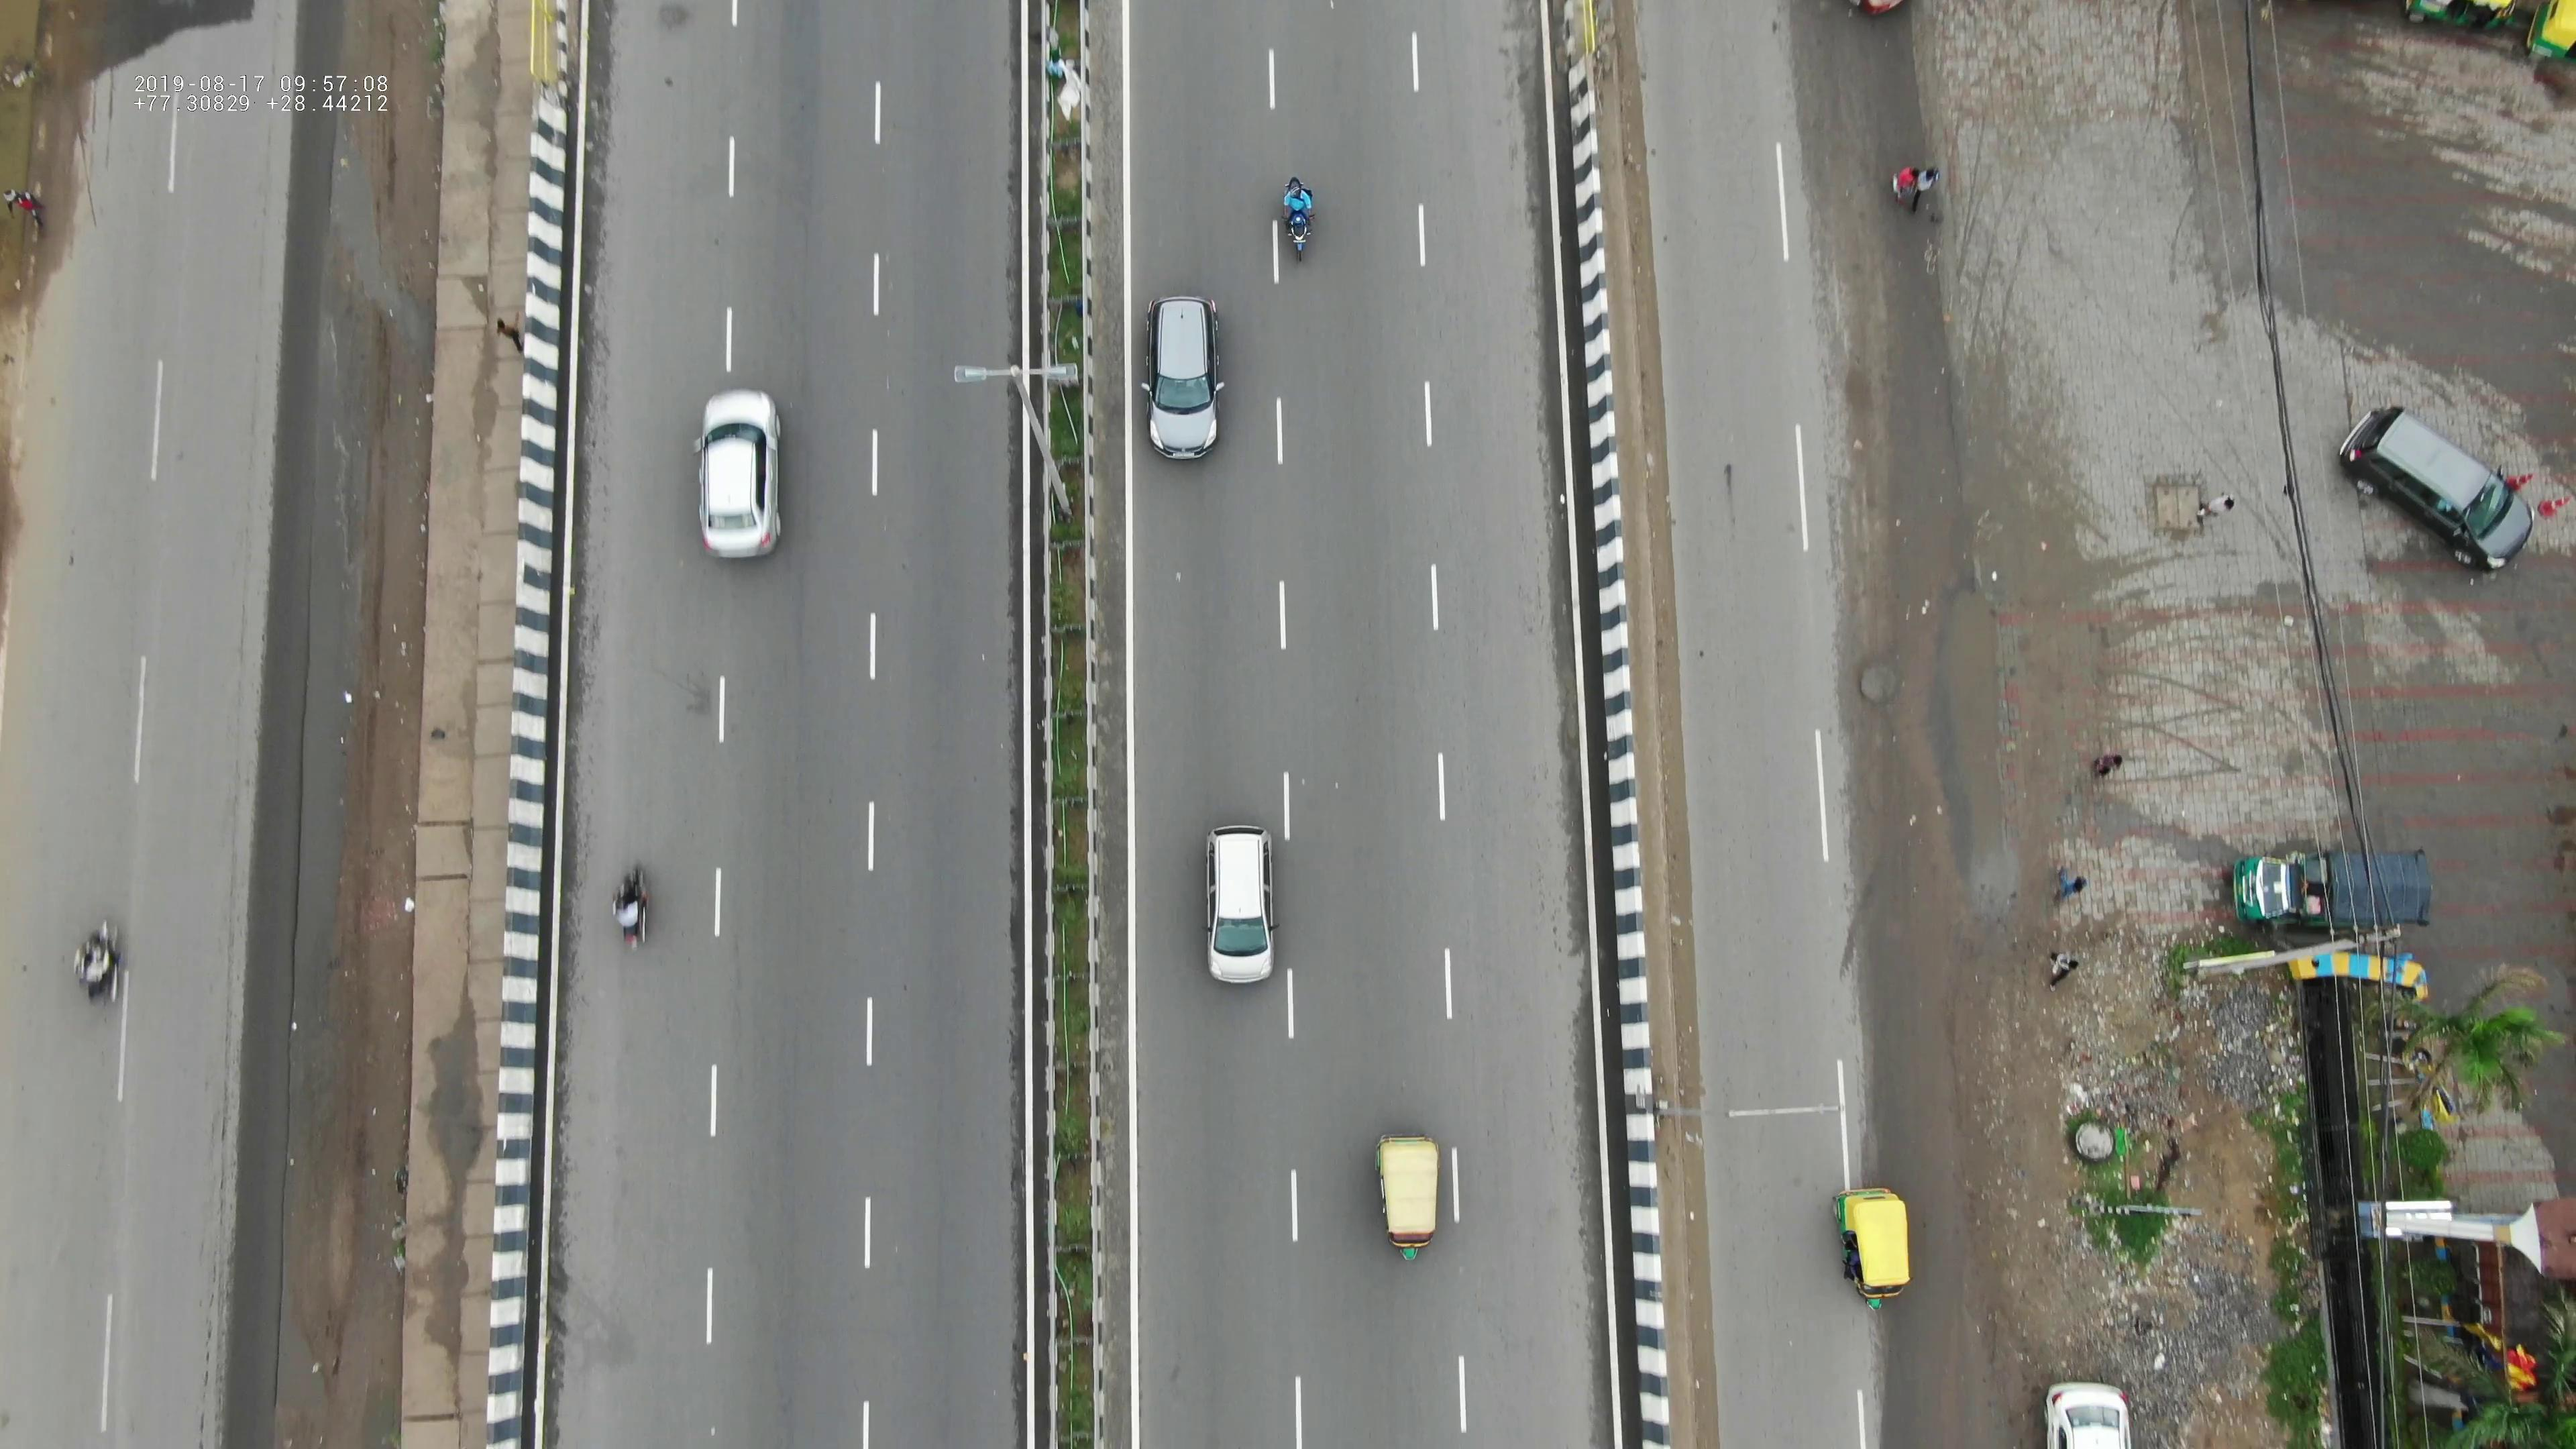Waterlogging: (1936, 554, 2028, 913)
